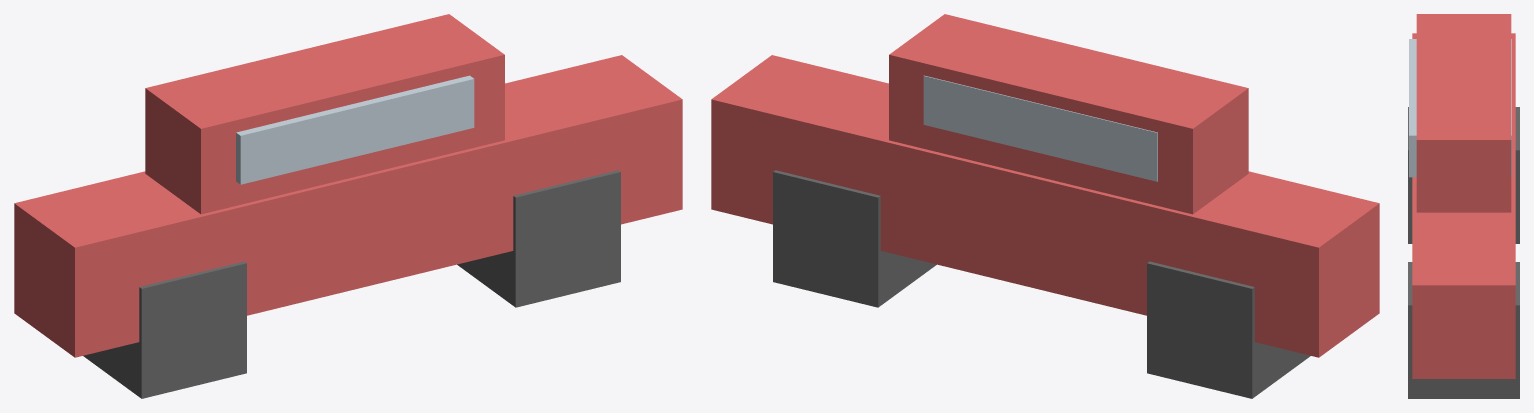
Rendered from car.glb.
The picture shows the model from 3 angles, left to right: view 1: azimuth 30°, elevation 25°; view 2: azimuth 150°, elevation 25°; view 3: azimuth 270°, elevation 25°; orthographic projection. The views are drawn at different scales.
Visible parts, largest first — view 1: car; view 2: car; view 3: car.
Part boxes in pixels (<box>): car: <box>14,14,682,398</box>; car: <box>711,14,1379,398</box>; car: <box>1408,14,1519,398</box>.
Bounding box in the file's own units: 3.2 × 1.26 × 0.6.
